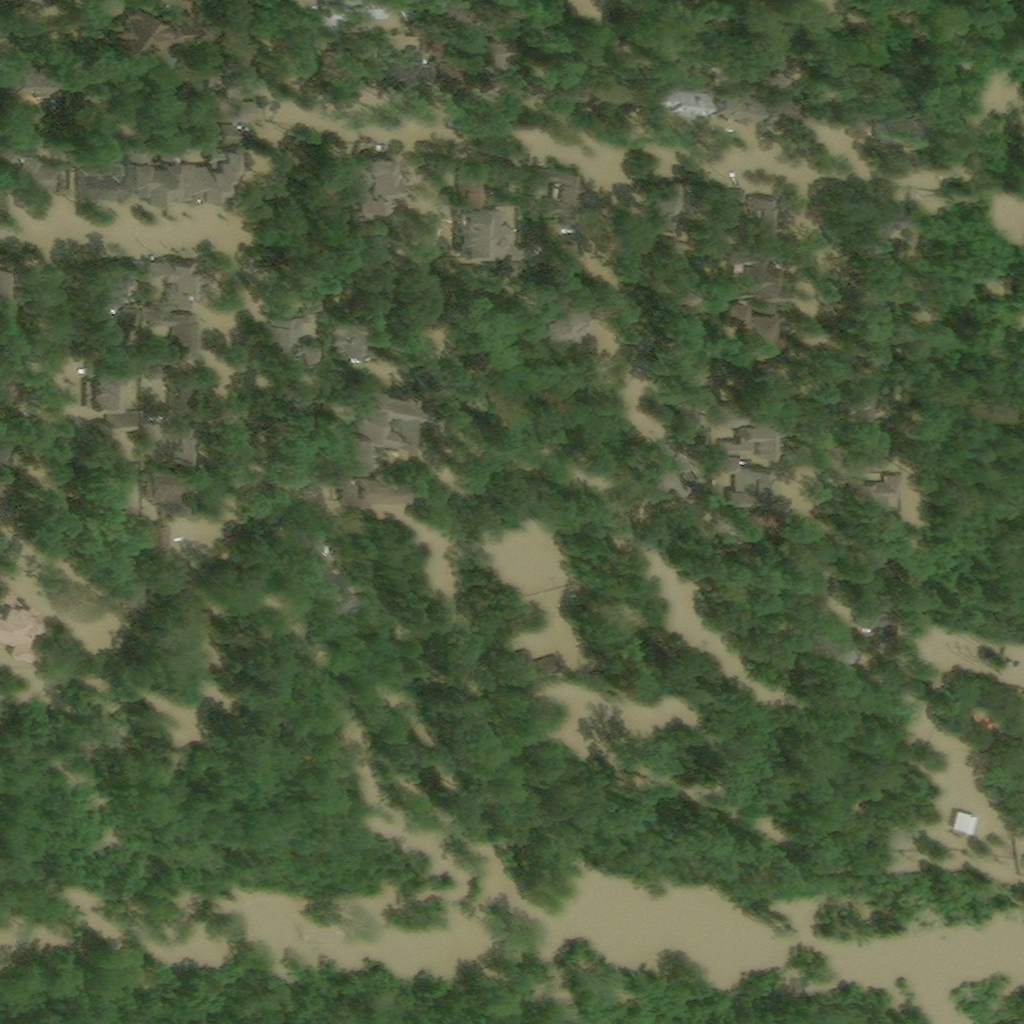destroyed: (287, 524, 350, 612), (643, 444, 702, 505), (0, 578, 42, 662), (145, 464, 185, 546), (1, 61, 54, 117), (528, 289, 584, 341), (99, 413, 140, 484), (814, 86, 868, 136), (84, 359, 135, 411), (87, 308, 141, 356), (858, 206, 907, 256), (92, 255, 142, 303), (658, 339, 706, 389), (675, 388, 713, 449), (145, 308, 200, 350), (534, 77, 582, 120), (513, 648, 563, 685), (224, 73, 260, 123), (145, 414, 191, 452), (849, 380, 885, 422), (856, 585, 887, 630), (484, 71, 522, 101), (489, 610, 515, 644), (322, 0, 348, 31), (828, 633, 853, 659), (199, 15, 246, 27), (144, 362, 166, 384), (363, 0, 388, 19), (390, 36, 418, 51), (701, 58, 718, 74), (157, 346, 173, 359)
major_damage: (340, 379, 409, 464), (724, 248, 779, 347), (117, 8, 194, 57), (715, 454, 777, 512), (180, 144, 236, 202), (524, 167, 584, 216), (355, 148, 395, 217), (149, 254, 201, 307), (269, 417, 321, 468), (127, 146, 177, 198), (268, 315, 320, 365), (659, 75, 710, 121), (335, 464, 396, 502), (331, 317, 373, 365), (653, 179, 689, 231), (847, 426, 885, 475), (275, 258, 307, 312), (719, 92, 767, 128), (372, 345, 417, 383), (80, 163, 124, 201), (872, 102, 917, 136), (743, 409, 776, 454), (767, 101, 811, 133), (459, 163, 489, 206), (764, 64, 795, 104), (751, 193, 774, 229), (952, 811, 980, 834), (278, 365, 305, 382), (0, 148, 20, 168), (56, 146, 73, 168), (307, 295, 325, 313)
unclassified: (847, 330, 876, 367), (851, 283, 878, 316), (749, 360, 776, 385), (464, 295, 494, 313), (463, 348, 489, 364), (637, 72, 651, 96)
